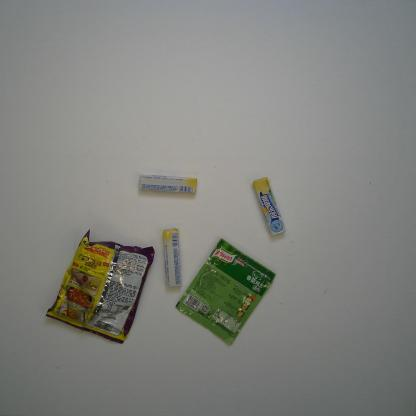Candy: (252, 176, 287, 237), (162, 226, 182, 288), (139, 173, 198, 194)
Instant Noodles: (45, 229, 155, 345)
Seasoner: (175, 237, 276, 345)
